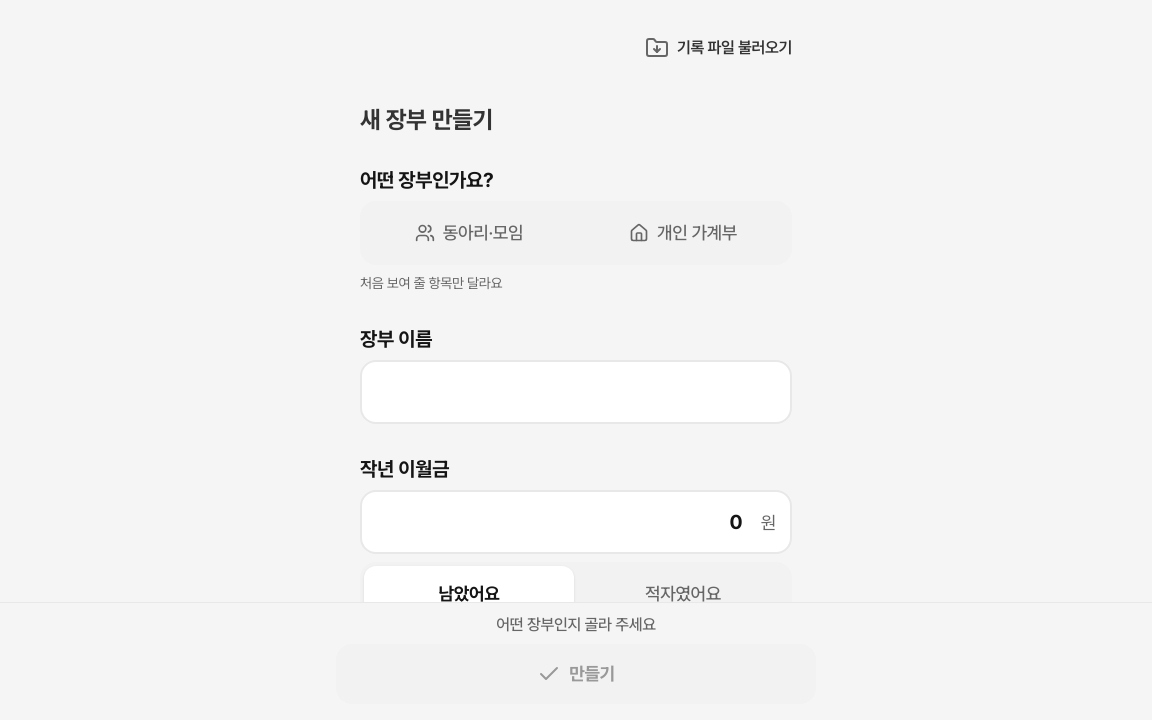
Test case: SPEC-002 첫 장부 뒤 홈 화면에 추가 권하기 (#135) › SPEC-009 AC-23 권하기 상태가 이미 done 이면(연습 끝에 대답함) 첫 장부를 만들 때 waiting 으로 덮지 않고 카드도 없다
Click the button "동아리·모임".
click(469, 233)  # box [364,205,574,261]
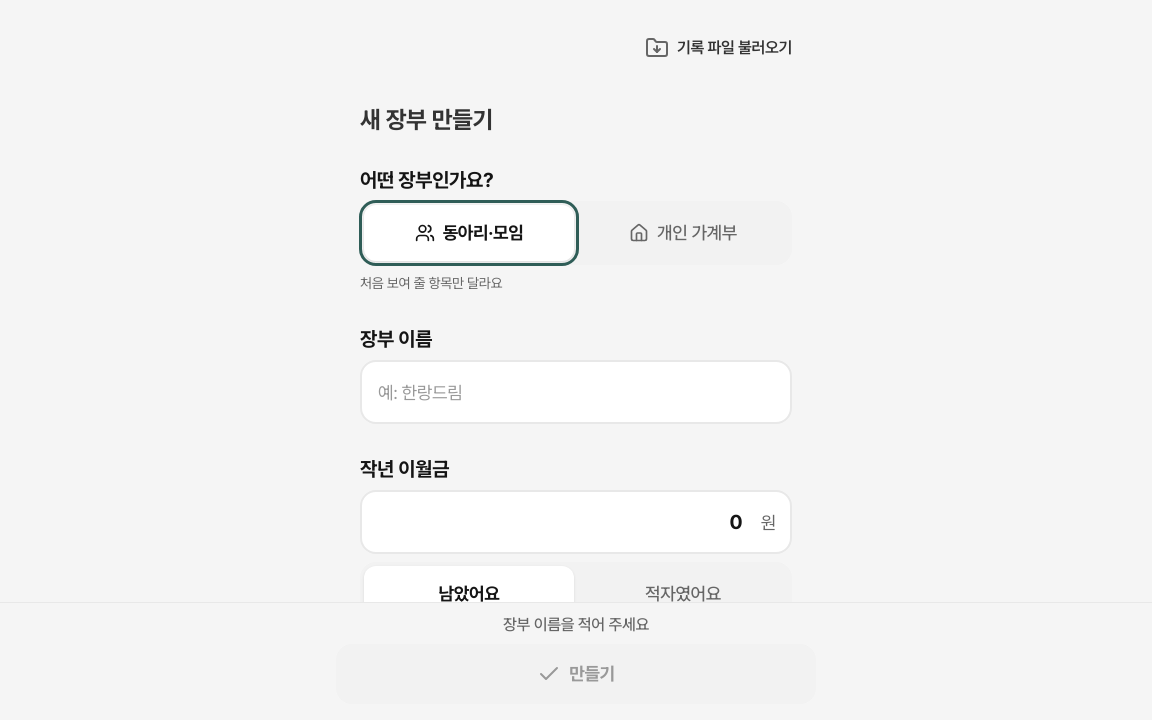
Type "한랑드림" into the field labelled "장부 이름".
click(576, 392); type("한랑드림")  # box [360,360,792,424]
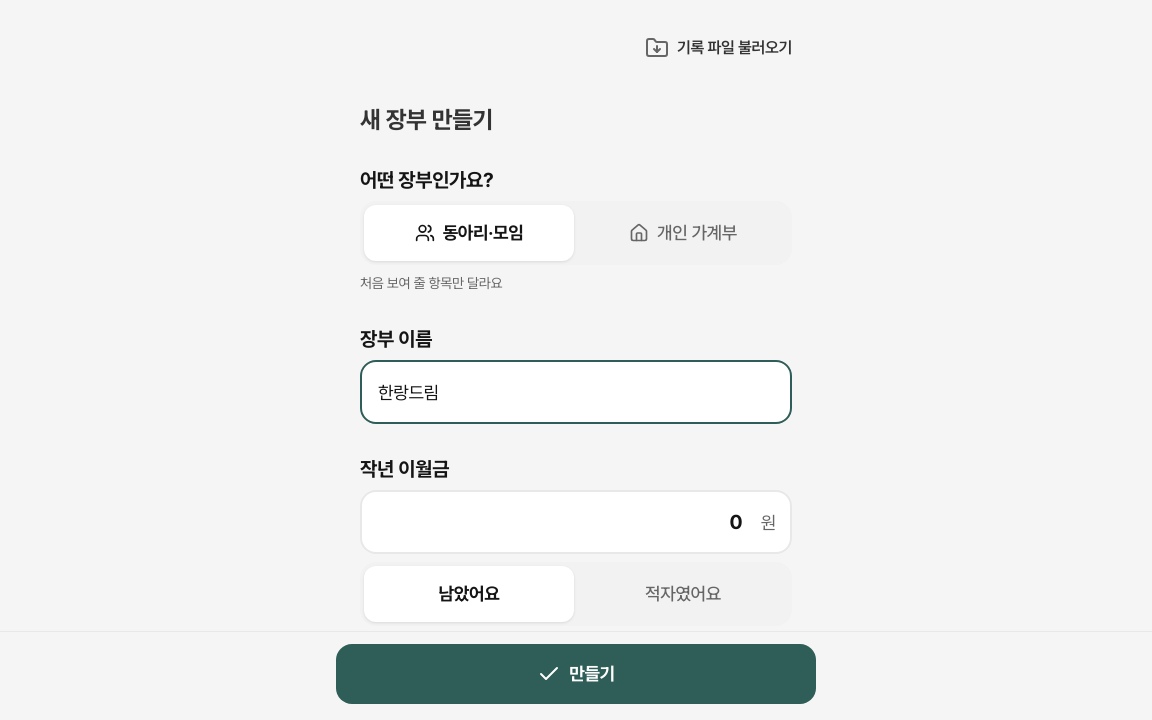
Click the button "만들기".
click(576, 674)  # box [336,644,816,704]
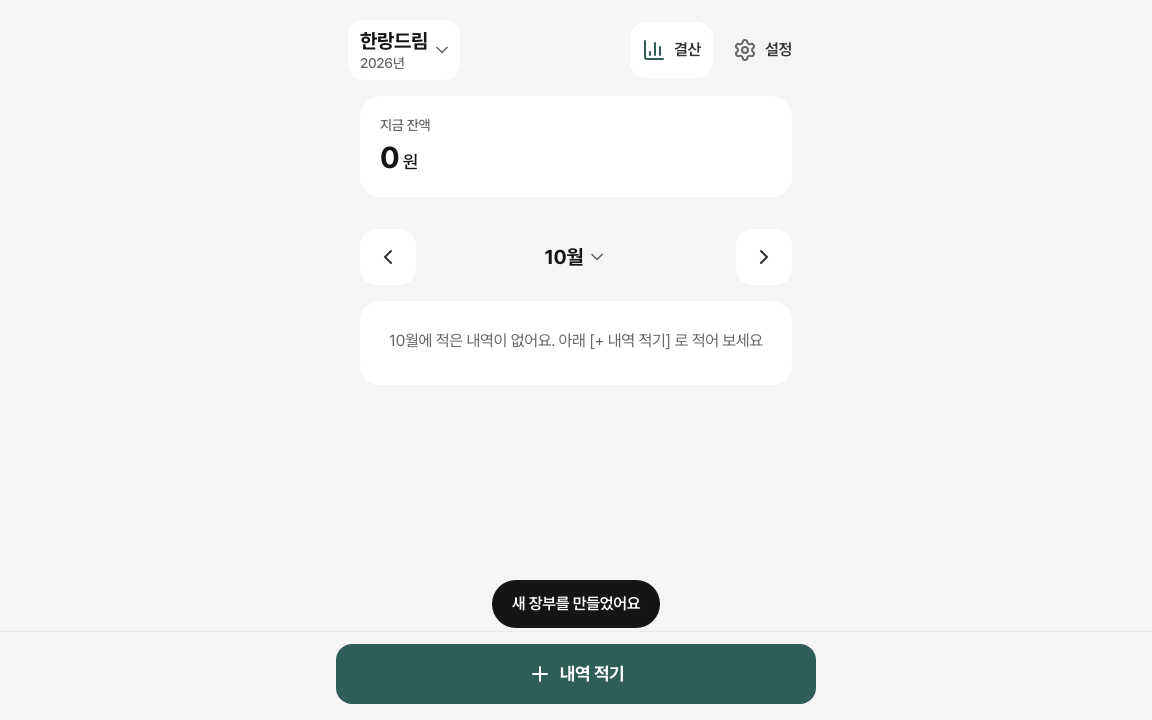
expect the element with test id "ledger-screen" is shown: met, box [360,20,792,474]
